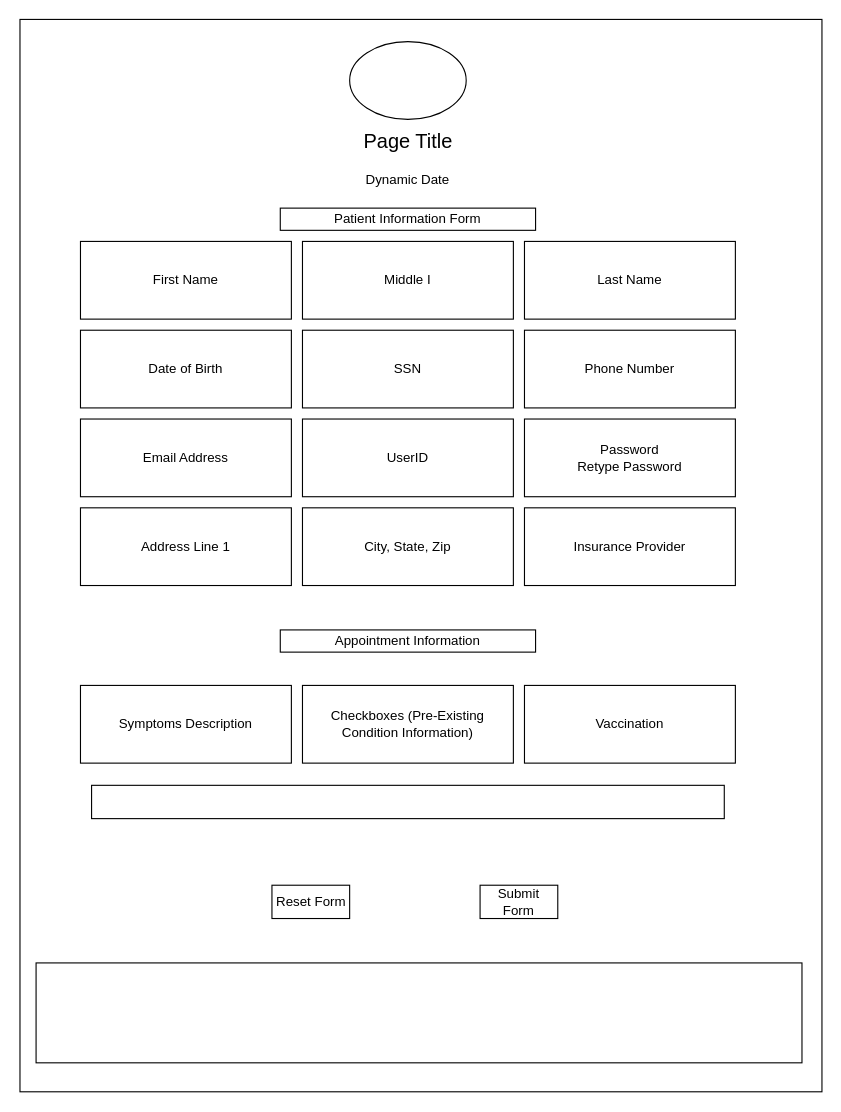
This 841x1112 diagram has some shape labels left out. Here are the shapes that lost their labels. From the top down, the box of each, then its label:
(349, 41, 466, 119): Logo Image
(90, 784, 724, 819): Patient Health Rating Slider Bar
(35, 962, 802, 1063): Footer
